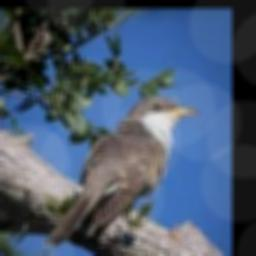Cuckoo: (43, 97, 199, 247)
